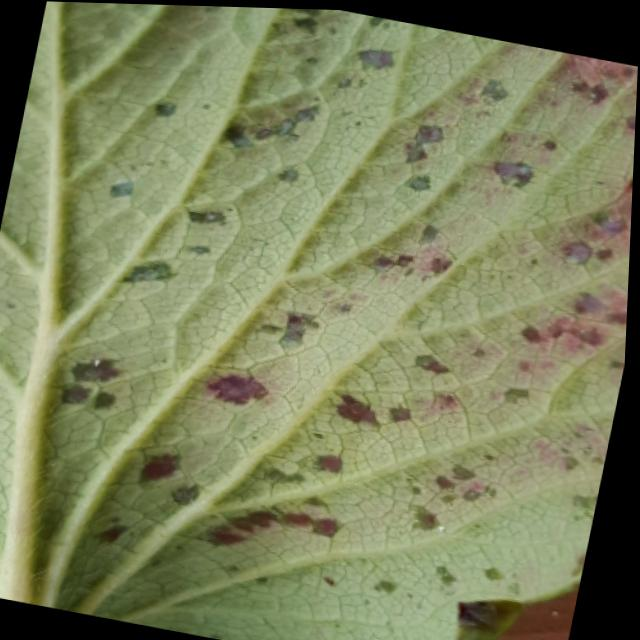Angular Leafspot: (60, 4, 638, 640)
